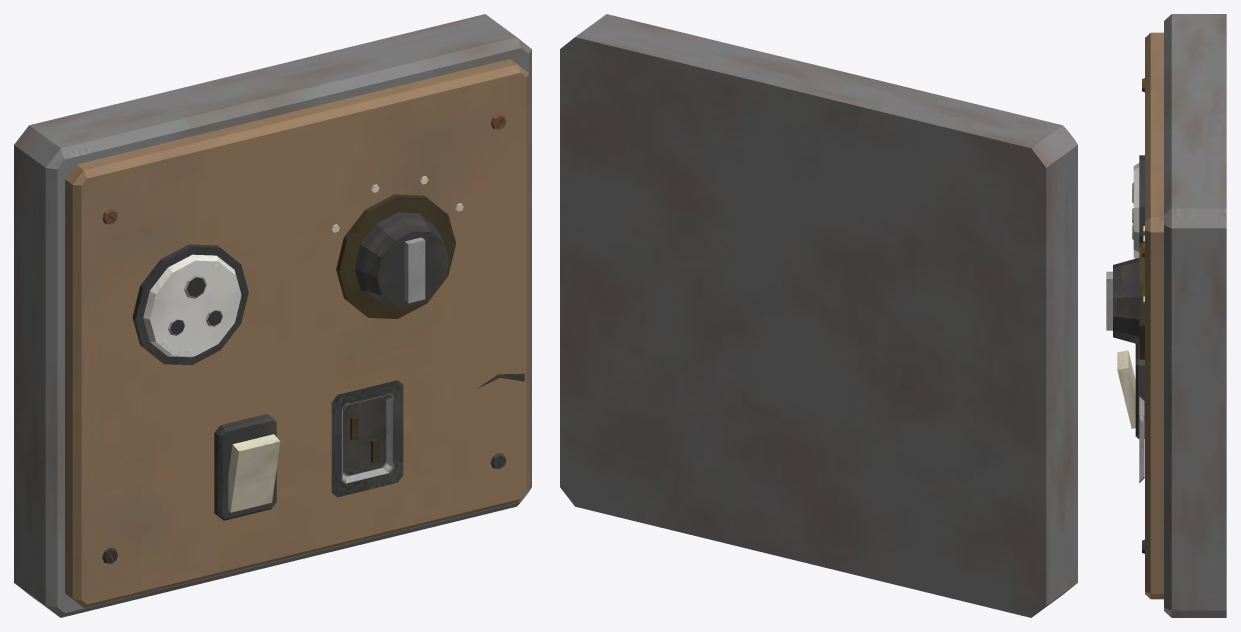
File: U09_wall_switchboard_v3.glb
3 views of the same model, side by side, from view 1: azimuth 30°, elevation 25°; view 2: azimuth 150°, elevation 25°; view 3: azimuth 270°, elevation 25° (orthographic). The views are drawn at different scales.
Parts seen in each view (by area): view 1: Wall Switchboard; view 2: Wall Switchboard; view 3: Wall Switchboard.
Part boxes in pixels (left/top/right/bottom): Wall Switchboard: left=14, top=14, right=531, bottom=617; Wall Switchboard: left=560, top=14, right=1077, bottom=617; Wall Switchboard: left=1106, top=14, right=1226, bottom=617.
Size of the model in its own units: 0.3 by 0.2767 by 0.0738.
10 materials, 10 textured.
